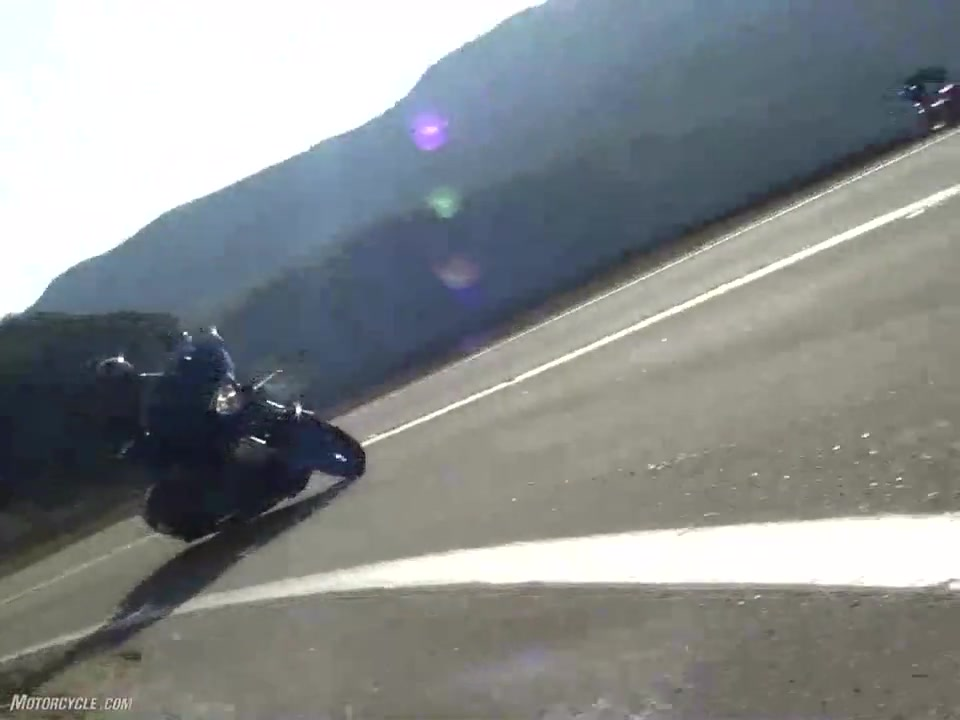motorbike: (115, 325, 367, 542)
